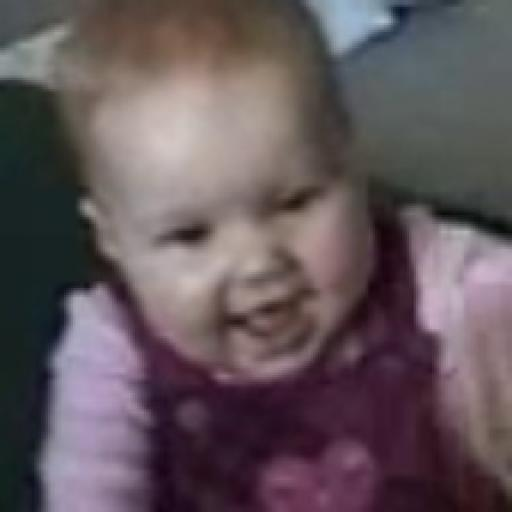Autism: (56, 4, 407, 403)
